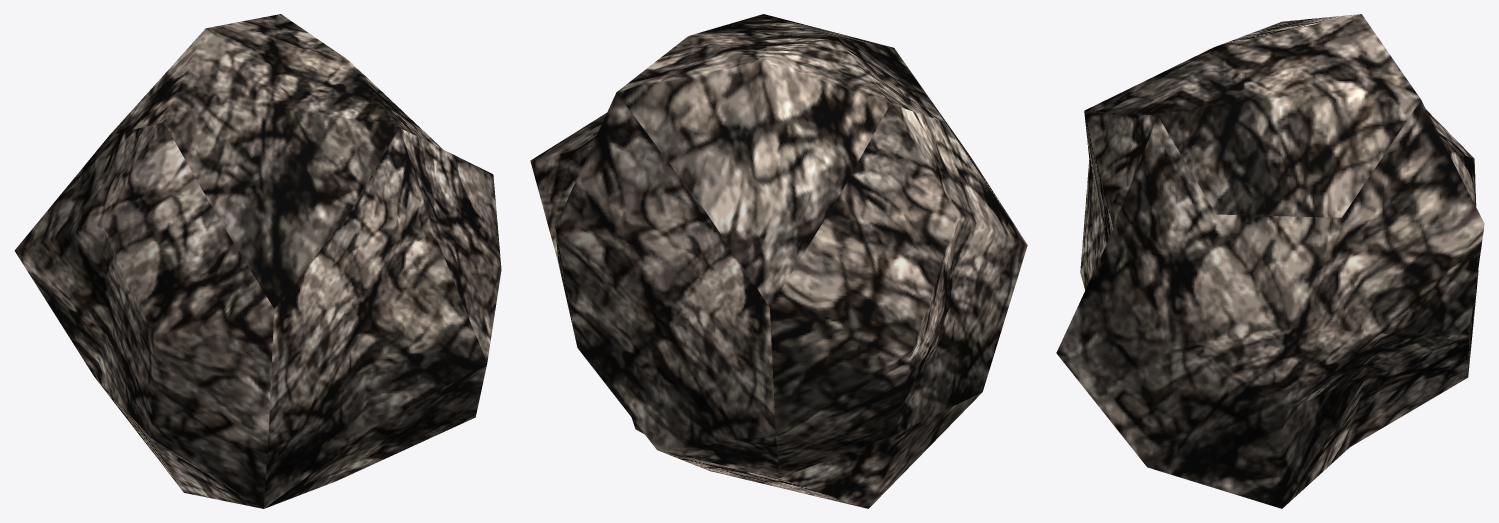
The model's file is RockProjectile1.fbx.
3 views of the same model, side by side, from view 1: azimuth 30°, elevation 25°; view 2: azimuth 150°, elevation 25°; view 3: azimuth 270°, elevation 25° (orthographic). The views are drawn at different scales.
Visible parts, largest first — view 1: Large; view 2: Large; view 3: Large.
Part boxes in pixels (left/top/right/bottom): Large: left=14, top=14, right=501, bottom=508; Large: left=530, top=14, right=1027, bottom=508; Large: left=1056, top=14, right=1484, bottom=508.
Bounding box in the file's own units: 515 × 501 × 443.
